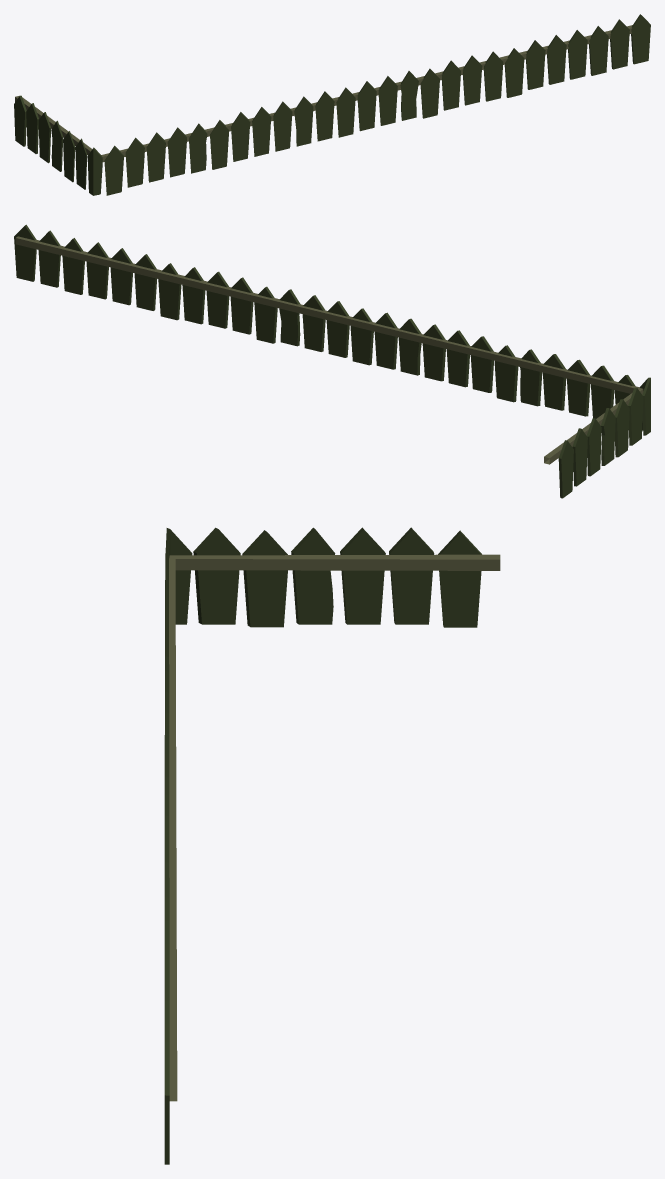
Rendered from hunterbarricade.fbx.
3 views of the same model, one above another, from view 1: azimuth 30°, elevation 25°; view 2: azimuth 150°, elevation 25°; view 3: azimuth 270°, elevation 25° (orthographic). The views are drawn at different scales.
Visible parts, largest first — view 1: Barrier, BarrierSupport; view 2: Barrier, BarrierSupport; view 3: Barrier, BarrierSupport.
Part boxes in pixels (x1,y1,x2,y2): Barrier: [14, 14, 650, 195]; BarrierSupport: [15, 25, 632, 162]; Barrier: [14, 224, 650, 498]; BarrierSupport: [15, 236, 643, 464]; Barrier: [164, 527, 481, 1164]; BarrierSupport: [169, 554, 500, 1101].
Size of what is drawn, in the model's own units: 12.92 by 1.12 by 3.37.
